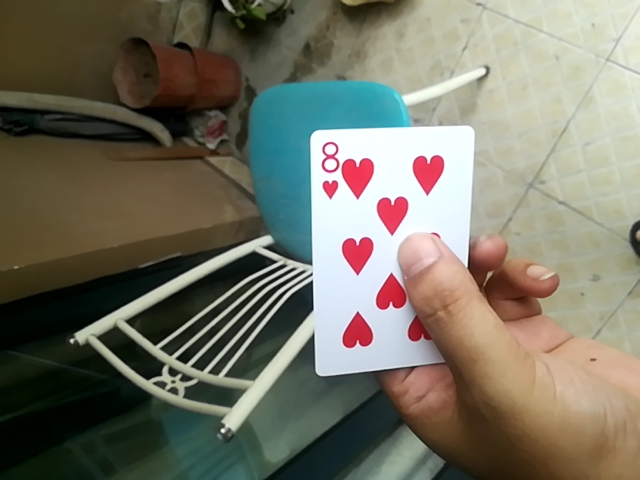hx 8: (306, 122, 471, 379)
